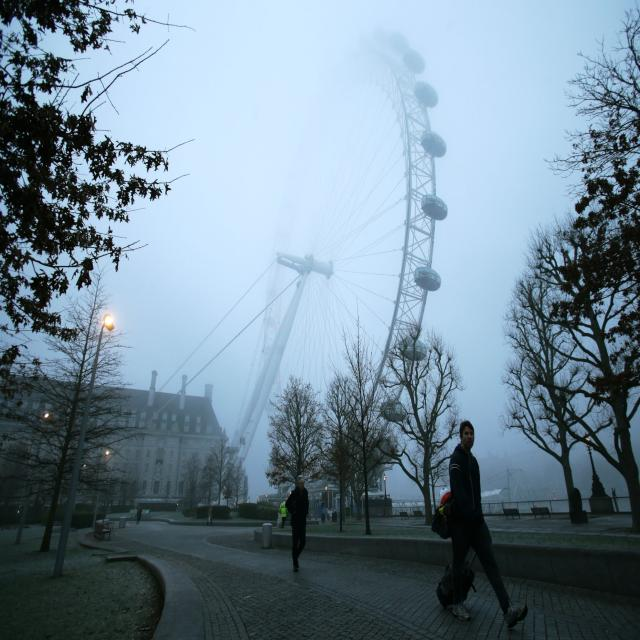Walking: (447, 399, 520, 624), (282, 466, 322, 569)
human: (447, 406, 480, 458), (289, 464, 313, 495)
